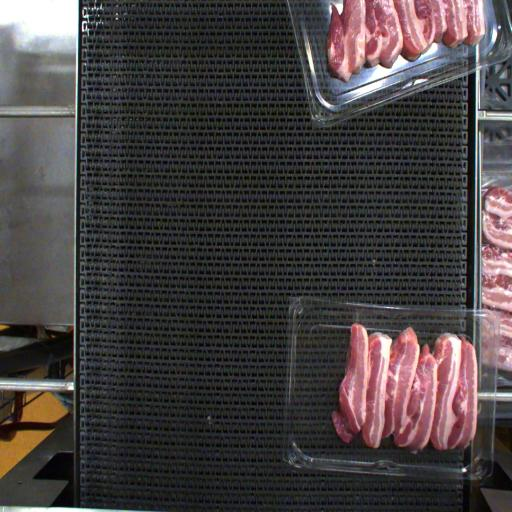packaging-error: (350, 307, 362, 325)
